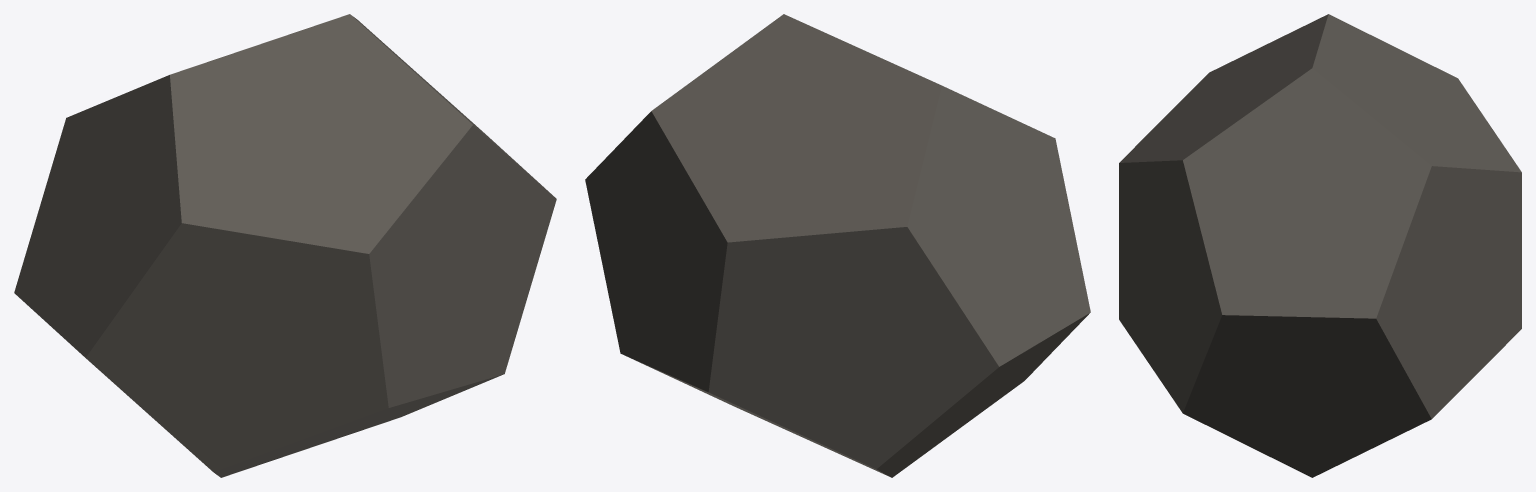
The model's file is marge.glb.
3 renders of one model, left to right at view 1: azimuth 30°, elevation 25°; view 2: azimuth 150°, elevation 25°; view 3: azimuth 270°, elevation 25°, orthographic. The views are drawn at different scales.
Parts seen in each view (by area): view 1: marge; view 2: marge; view 3: marge.
Part boxes in pixels (<box>): marge: <box>14,14,556,477</box>; marge: <box>585,14,1090,477</box>; marge: <box>1119,14,1521,477</box>.
Bounding box in the file's own units: 1.2 × 1.1 × 0.9794.
Materials: 1 (1 with a texture image).
